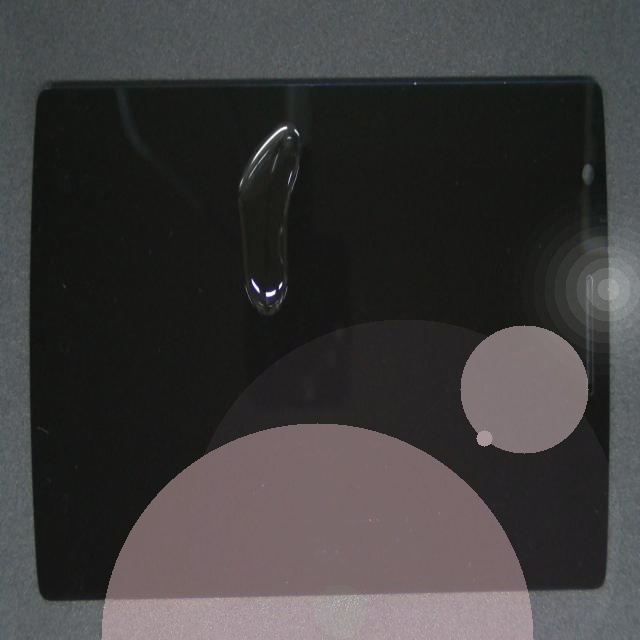oil: (143, 200, 443, 358)
